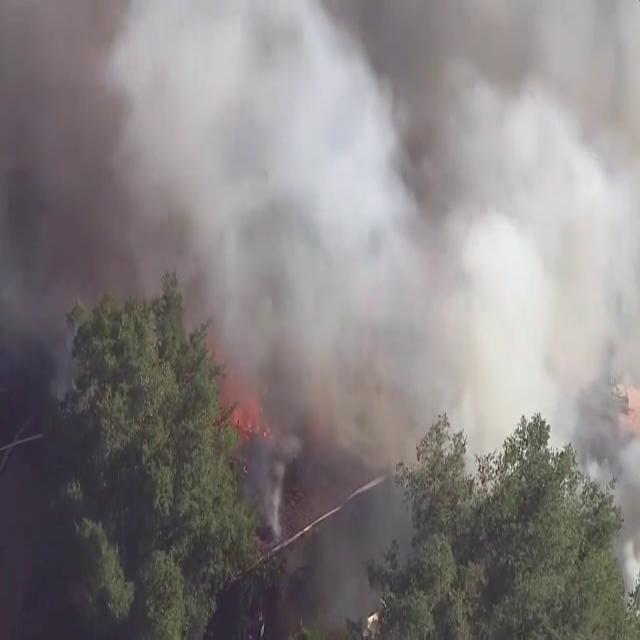Smoke: (4, 1, 640, 607)
